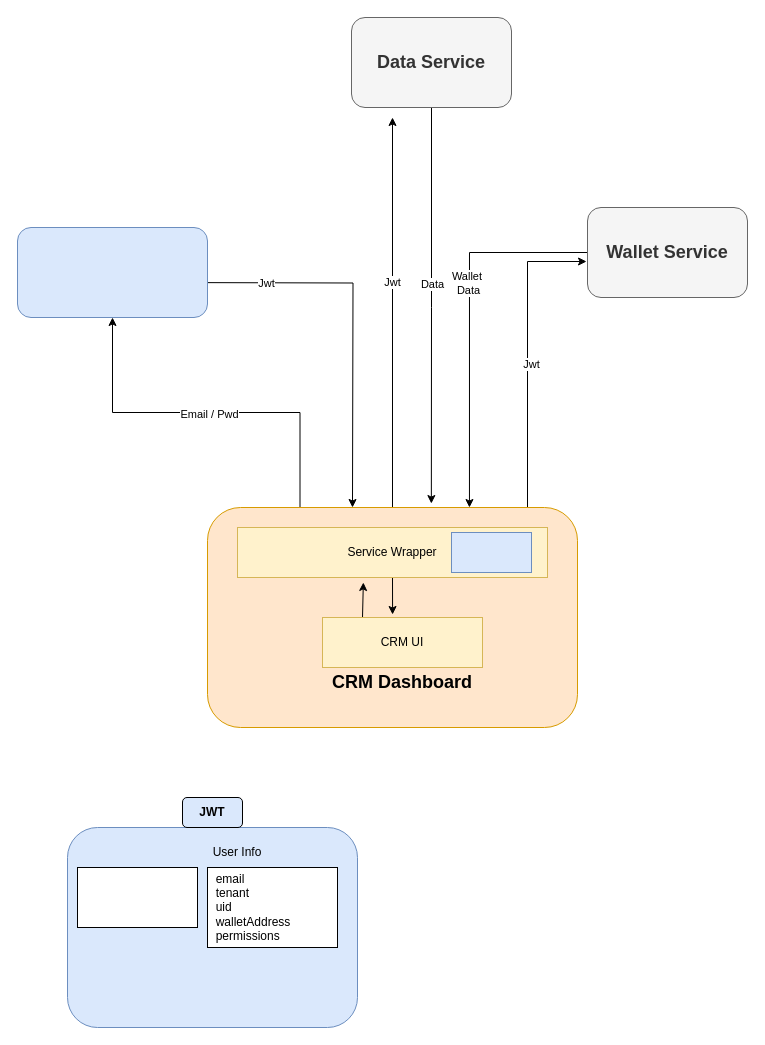
This 765x1045 diagram has some shape labels left out. Each missing label, with the centre of its shape:
Auth: [112,272]
Http only JWT Cookie: [137,897]
Sessions: [491,552]
